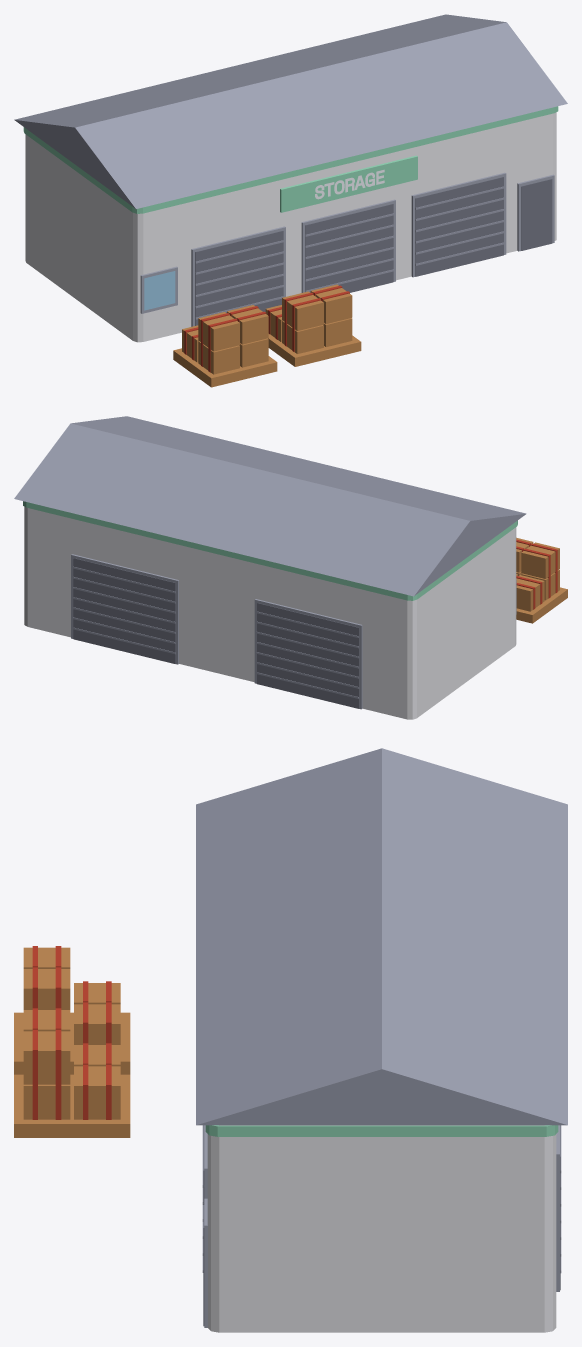
The model's file is storehouse-2x2-t2-tone-a.glb.
The picture shows the model from 3 angles, top to bottom: view 1: azimuth 30°, elevation 25°; view 2: azimuth 150°, elevation 25°; view 3: azimuth 270°, elevation 25°; orthographic projection. The views are drawn at different scales.
Visible parts, largest first — view 1: storehouse-2x2-t2-tone-a; view 2: storehouse-2x2-t2-tone-a; view 3: storehouse-2x2-t2-tone-a.
Part boxes in pixels (left/top/right/bottom): storehouse-2x2-t2-tone-a: left=14, top=14, right=567, bottom=387; storehouse-2x2-t2-tone-a: left=14, top=416, right=567, bottom=719; storehouse-2x2-t2-tone-a: left=14, top=748, right=567, bottom=1332.
Bounding box in the file's own units: 1.96 × 0.76 × 1.43.
Materials: 1 (1 with a texture image).
